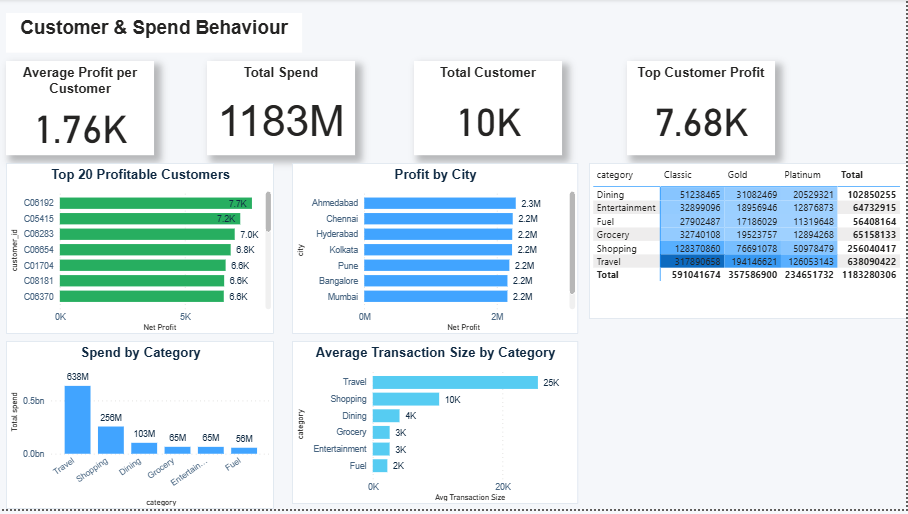

What the dashboard file says about the page in this screenshot:
{"tool":"powerbi","page":{"name":"Customer Behaviour","canvas":[1280,720],"ordinal":4},"visuals":[{"type":"textbox","box":[9.9,19.8,417.9,56.5],"z":0},{"type":"card","title":"Average Profit per Customer","fields":{"Values":["Matrix.Avg Profit Customer"]},"box":[9.9,87.5,208.9,132.7],"z":1000},{"type":"card","title":"Top Customer Profit","fields":{"Values":["Matrix.Top Customer Profit"]},"box":[886.6,87.5,208.9,132.7],"z":2000},{"type":"card","title":"Total Customer","fields":{"Values":["Matrix.Total_Customers"]},"box":[585.9,87.5,208.9,132.7],"z":3000},{"type":"card","title":"Total Spend","fields":{"Values":["Matrix.Total spend"]},"box":[293.6,87.5,208.9,132.7],"z":4000},{"type":"barChart","title":"Top 20 Profitable Customers","fields":{"Category":["cardholders.customer_id"],"Y":["Matrix.Net Profit"]},"box":[9.9,231.5,378.4,241.4],"z":5000},{"type":"barChart","title":"Profit by City","fields":{"Y":["Matrix.Net Profit"],"Category":["cardholders.city"]},"box":[413.6,231.5,403.8,241.4],"z":6000},{"type":"clusteredColumnChart","title":"Spend by Category","fields":{"Y":["Matrix.Total spend"],"Category":["transaction.category"]},"box":[9.9,482.8,378.4,237.2],"z":7000},{"type":"pivotTable","title":"Card Type vs Spending Category","fields":{"Values":["Matrix.Total spend"],"Rows":["transaction.category"],"Columns":["cardholders.card_type"]},"box":[832.9,231.5,447.5,220.2],"z":8000},{"type":"barChart","title":"Average Transaction Size by Category","fields":{"Category":["transaction.category"],"Y":["Matrix.Avg Transaction Size"]},"box":[413.6,482.8,403.8,230.1],"z":9000}]}

Visuals, with their boxes in screenshot pixels (x1, y1, x2, y2), scaled from the page's 1280x720 canvas onto the 908x514 screenshot:
textbox: 7, 14, 303, 54
"Average Profit per Customer" card: 7, 62, 155, 157
"Top Customer Profit" card: 629, 62, 777, 157
"Total Customer" card: 416, 62, 564, 157
"Total Spend" card: 208, 62, 356, 157
"Top 20 Profitable Customers" barChart: 7, 165, 275, 338
"Profit by City" barChart: 293, 165, 580, 338
"Spend by Category" clusteredColumnChart: 7, 345, 275, 513
"Card Type vs Spending Category" pivotTable: 591, 165, 907, 322
"Average Transaction Size by Category" barChart: 293, 345, 580, 509
